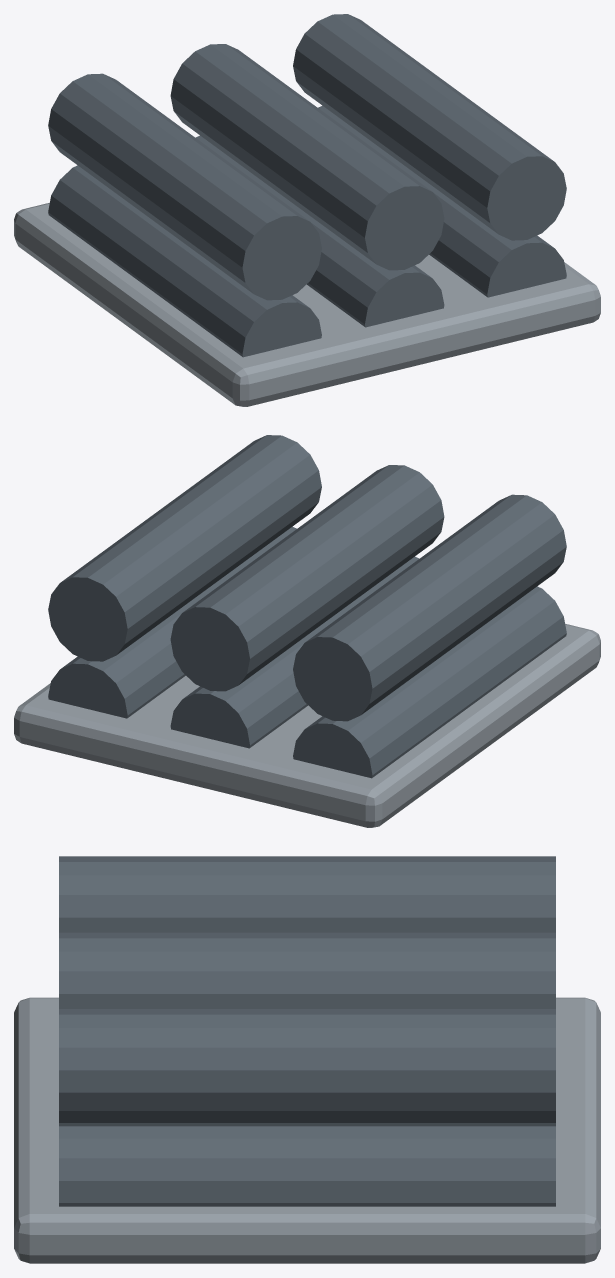
The model's file is 1_Detail.fbx.
3 views of the same model, one above another, from view 1: azimuth 30°, elevation 25°; view 2: azimuth 150°, elevation 25°; view 3: azimuth 270°, elevation 25° (orthographic). The views are drawn at different scales.
Visible parts, largest first — view 1: Body; view 2: Body; view 3: Body.
Part boxes in pixels (x1=…): Body: x1=14, y1=14, x2=600, y2=406; Body: x1=14, y1=435, x2=600, y2=827; Body: x1=14, y1=856, x2=600, y2=1263.
Size of the model in its own units: 1.2 by 0.53 by 1.3.
